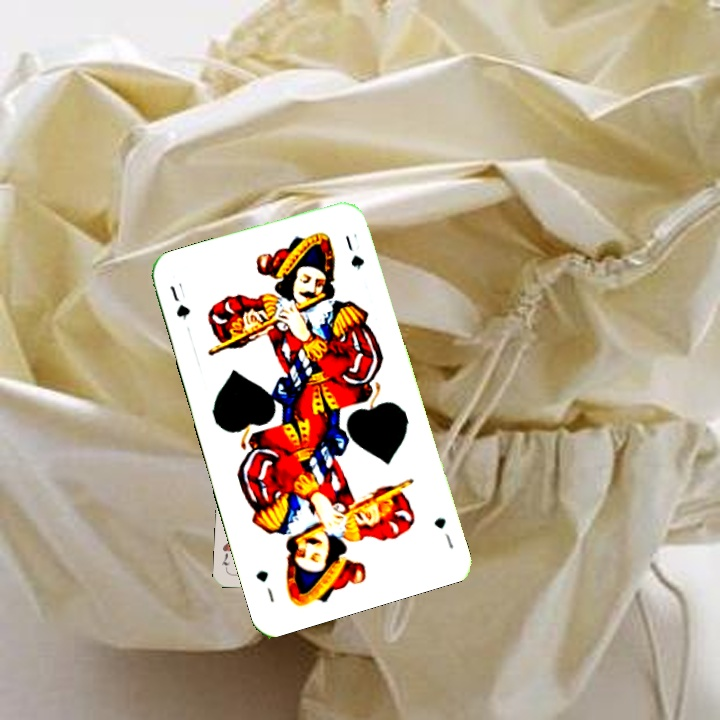GU: (165, 281, 193, 323), (430, 513, 456, 551)
